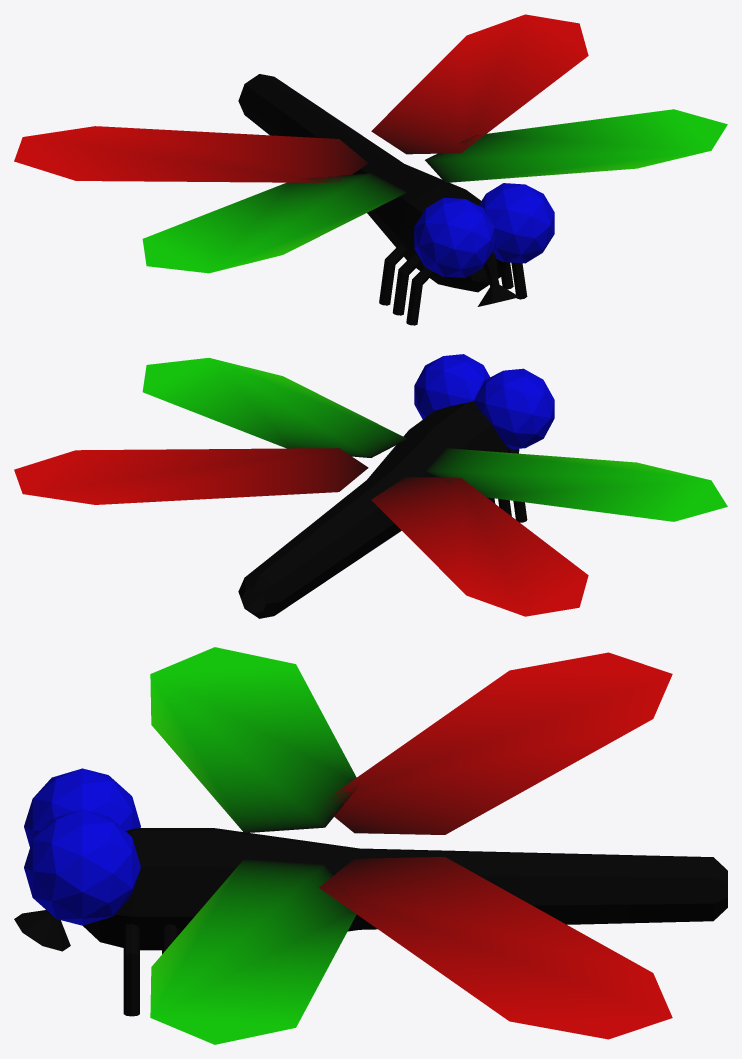
File: Dragonfly.fbx
3 renders of one model, top to bottom at view 1: azimuth 30°, elevation 25°; view 2: azimuth 150°, elevation 25°; view 3: azimuth 270°, elevation 25°, orthographic. The views are drawn at different scales.
Parts seen in each view (by area): view 1: cartoon_fly; view 2: cartoon_fly; view 3: cartoon_fly.
Boxes of the visible parts, box(x1,y1,x2,y2) form: cartoon_fly: box(14, 14, 727, 325); cartoon_fly: box(14, 354, 727, 618); cartoon_fly: box(14, 647, 727, 1044).
Size of the model in its own units: 1157 by 246 by 877.
